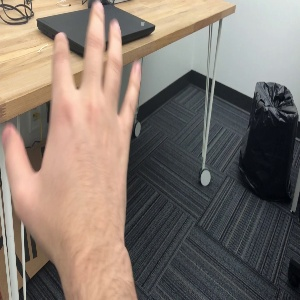hand: (2, 1, 141, 246)
